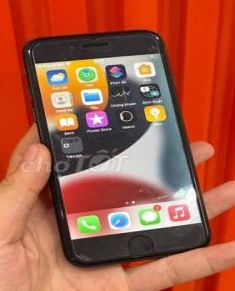scratch: (141, 30, 164, 51), (23, 43, 34, 65), (54, 203, 67, 220), (69, 253, 95, 260)
